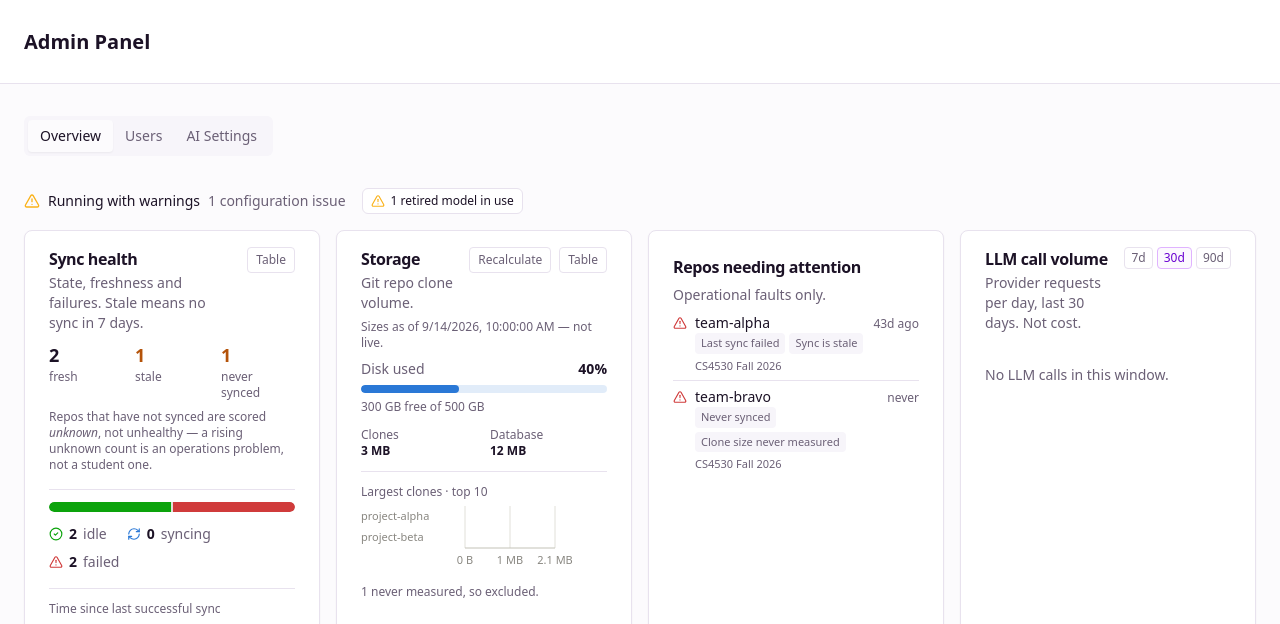
Scenario: AdminPage › offers no GitHub token field when creating a user
This screenshot has width=1280, height=624.
What coordinates should you click on to do the following:
click the tab "Users"
I would click on:
 (144, 136)
Its box is [113, 120, 174, 152].
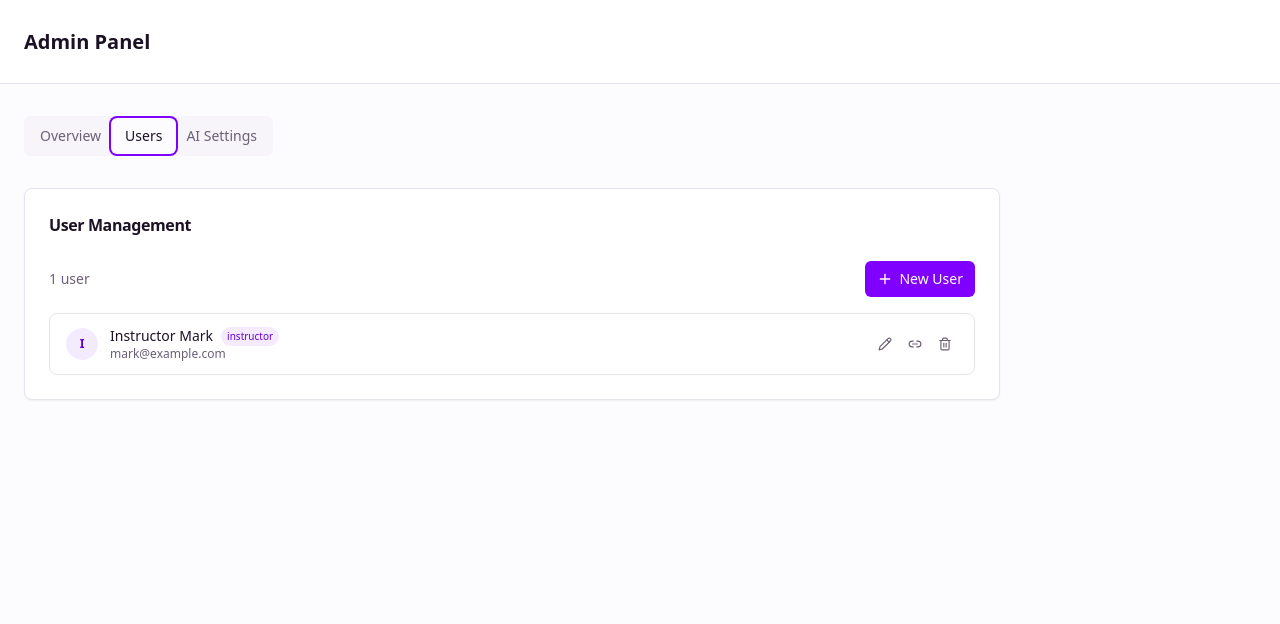
What coordinates should you click on to do the following:
click the button "New User"
I would click on:
 (920, 279)
Its box is [866, 261, 975, 297].
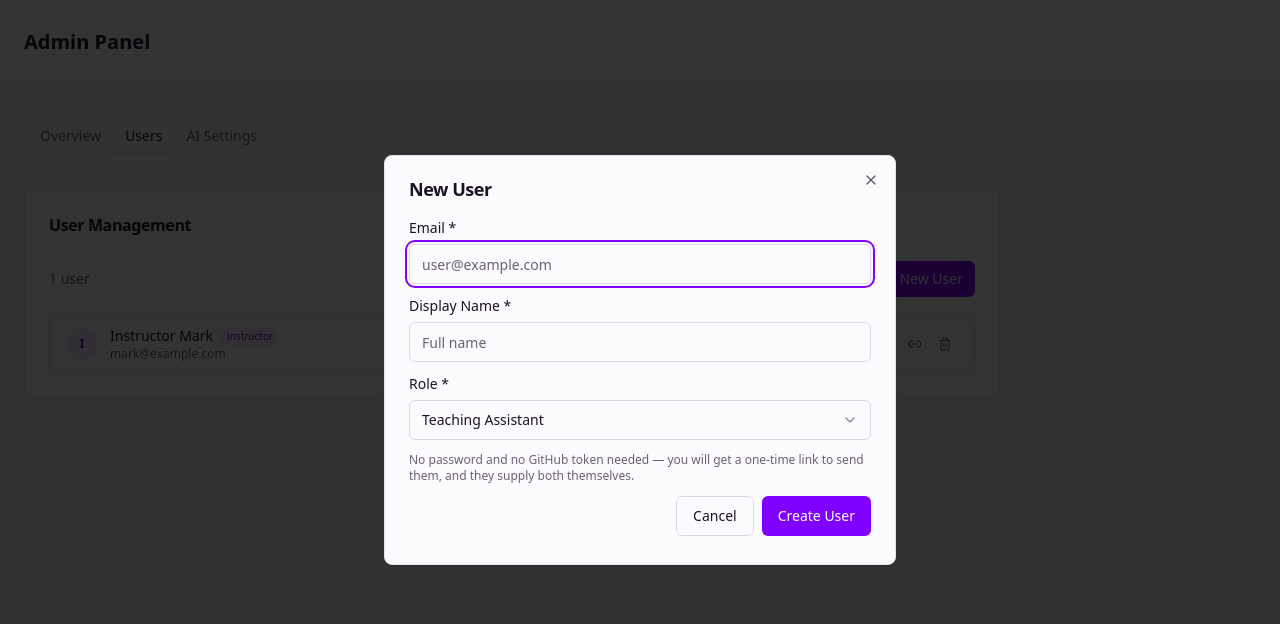
Now the dialog is shown, box [384, 155, 896, 565]
